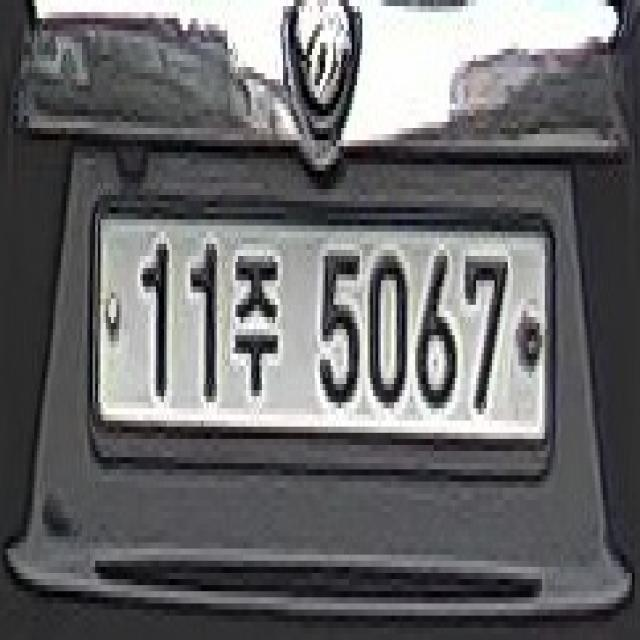0: (365, 238, 415, 427)
1: (183, 225, 230, 420), (138, 232, 182, 420)
5: (310, 244, 368, 421)
6: (412, 244, 462, 433)
7: (460, 238, 516, 432)
ju: (230, 238, 294, 408)
license_plate: (82, 182, 558, 488)
